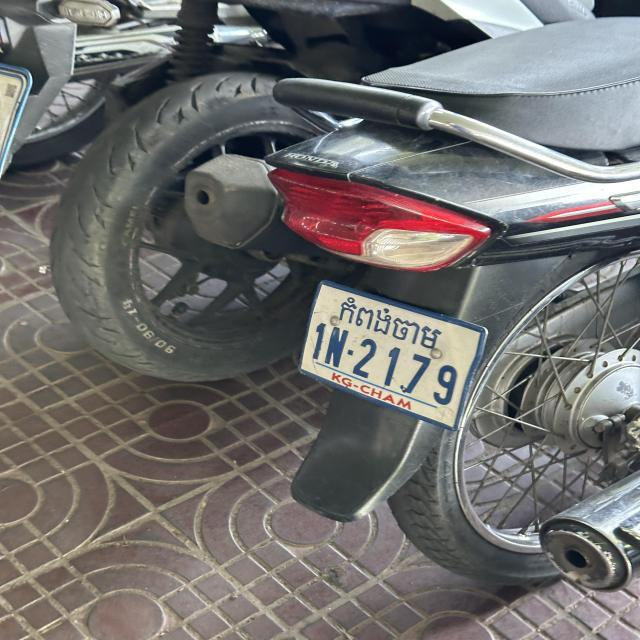Kampong_Cham: (338, 295, 440, 348)
